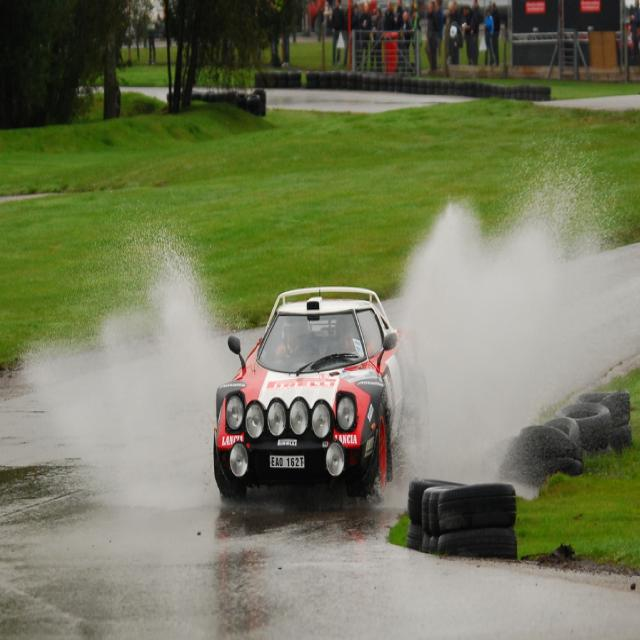car: (212, 218, 437, 565)
